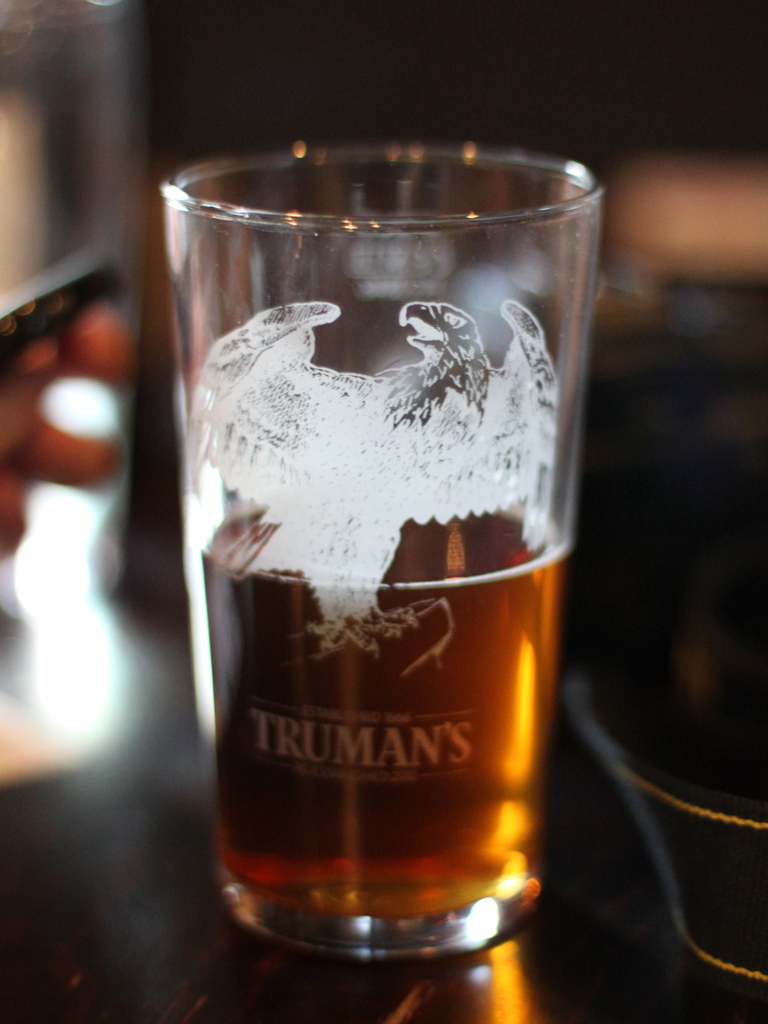Beer: (197, 513, 560, 943)
